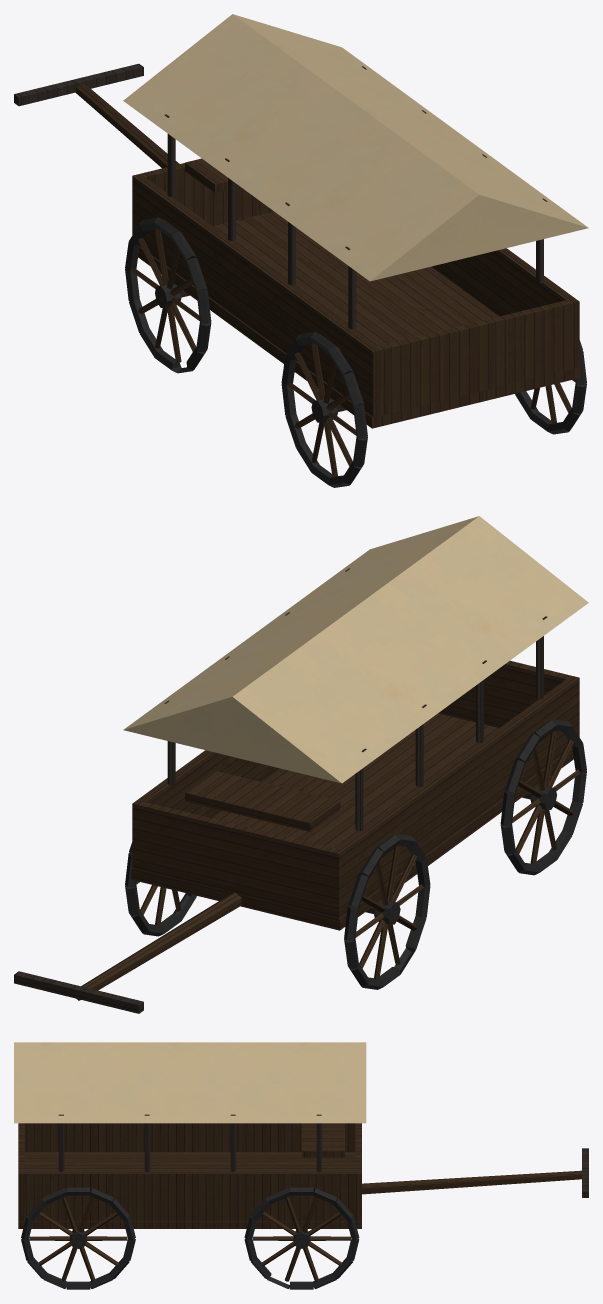
File: caravan_wagon_01.glb
3 views of the same model, one above another, from view 1: azimuth 30°, elevation 25°; view 2: azimuth 150°, elevation 25°; view 3: azimuth 270°, elevation 25° (orthographic). The views are drawn at different scales.
Visible parts, largest first — view 1: caravan_wagon_01; view 2: caravan_wagon_01; view 3: caravan_wagon_01.
Boxes of the visible parts, left/top/right/bottom form: caravan_wagon_01: left=14, top=14, right=588, bottom=487; caravan_wagon_01: left=14, top=516, right=588, bottom=1013; caravan_wagon_01: left=14, top=1042, right=588, bottom=1289.
Size of the model in its own units: 2.24 by 2.68 by 6.69.
4 materials, 4 textured.
